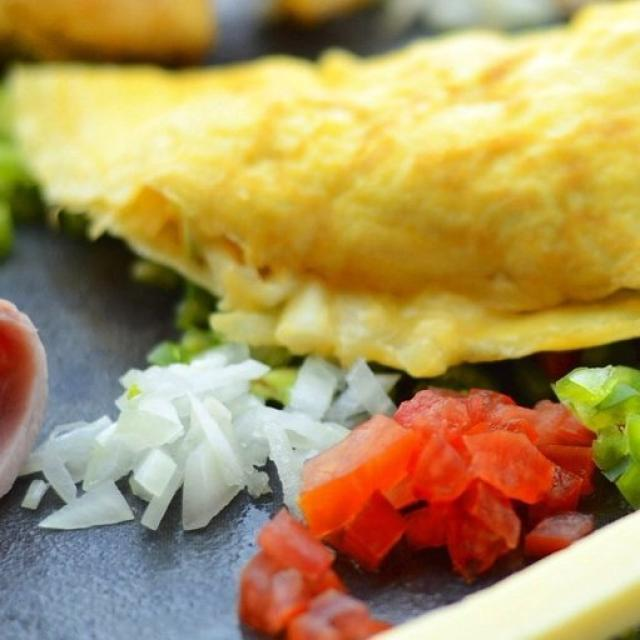telur_ayam_dadar: (5, 0, 640, 376)
